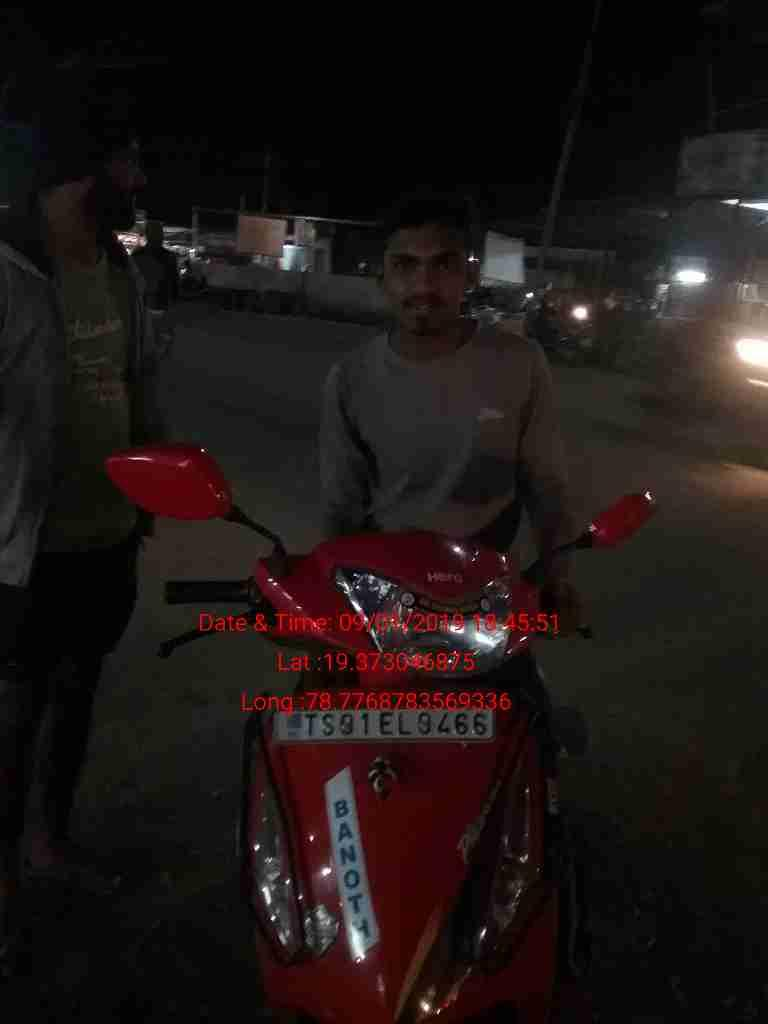plate: (272, 702, 505, 761)
